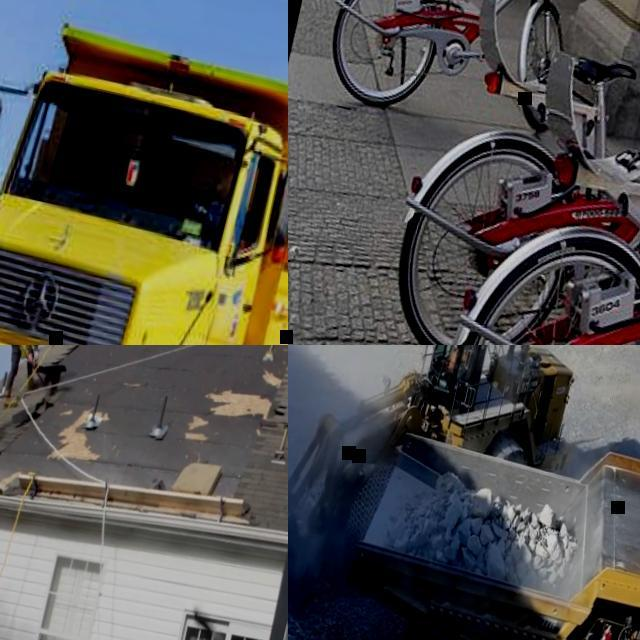vest: (446, 345, 468, 373), (6, 345, 45, 356)
